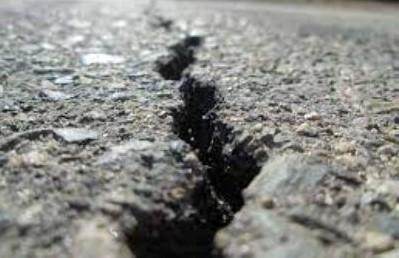crack: (125, 7, 261, 258)
